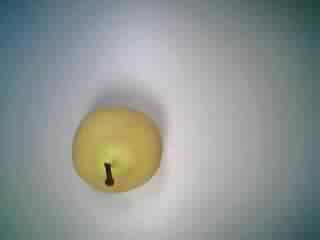pear: (61, 100, 171, 203)
